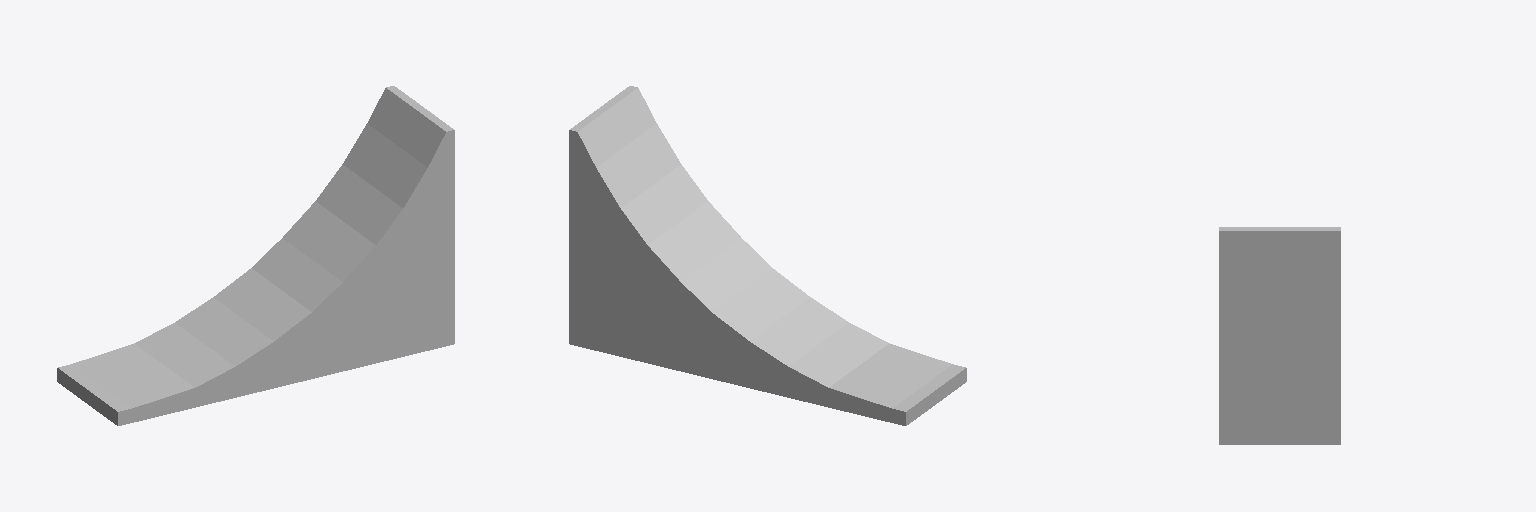
The model's file is Ramp_mid_c.obj.
3 views of the same model, side by side, from view 1: azimuth 30°, elevation 25°; view 2: azimuth 150°, elevation 25°; view 3: azimuth 270°, elevation 25° (orthographic).
Parts seen in each view (by area): view 1: collisonbox_Cube; view 2: collisonbox_Cube; view 3: collisonbox_Cube.
Boxes of the visible parts, x1=… form: collisonbox_Cube: x1=57, y1=86, x2=454, y2=425; collisonbox_Cube: x1=569, y1=86, x2=966, y2=425; collisonbox_Cube: x1=1219, y1=227, x2=1340, y2=444.
Bounding box in the file's own units: 6.42 × 3.91 × 2.01.